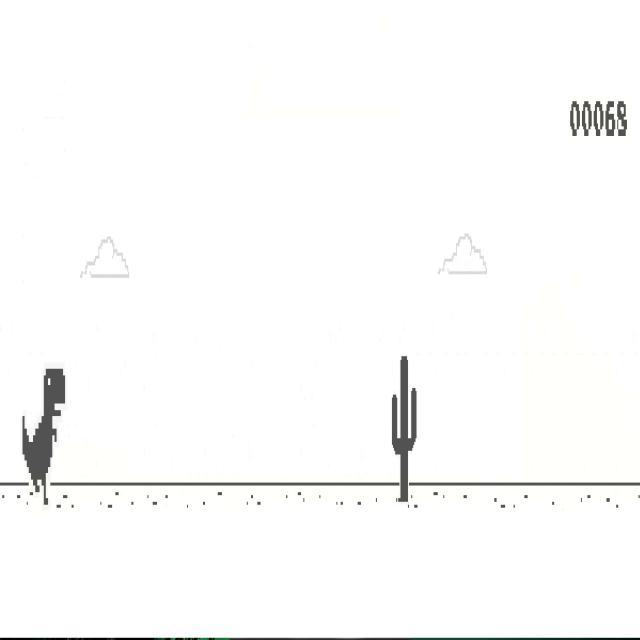cacto: (392, 354, 418, 503)
dino: (22, 368, 66, 506)
